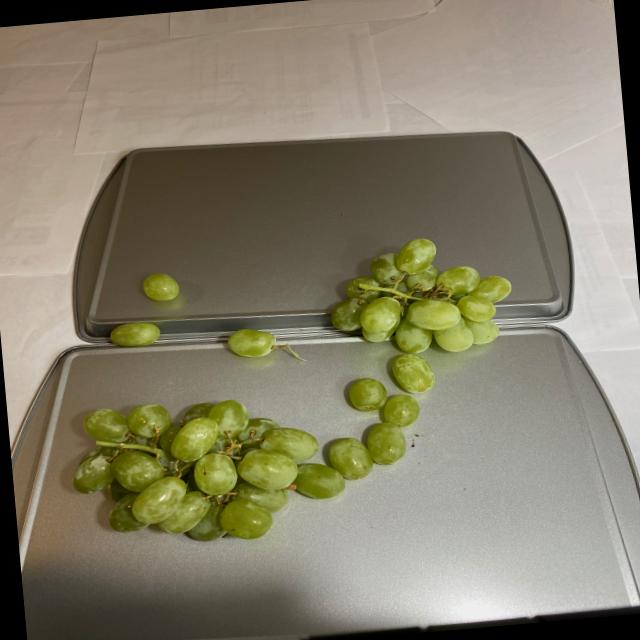grapes: (54, 229, 534, 550)
